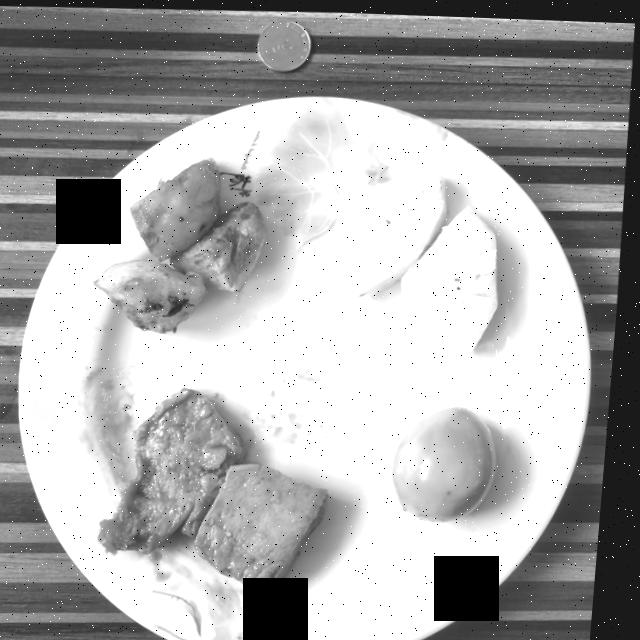coin: (258, 18, 311, 69)
creamy tofu: (107, 385, 337, 590)
fried potato: (99, 156, 270, 331)
pineapple: (346, 167, 502, 352)
soy egg: (400, 403, 504, 518)
